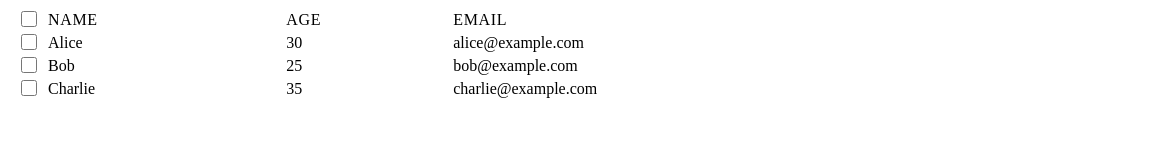
Test case: TableComponent › Selection › should select all rows via header checkbox
Click the 1st checkbox with class "lc-table__checkbox".
click(28, 19)  # box [20,11,36,27]
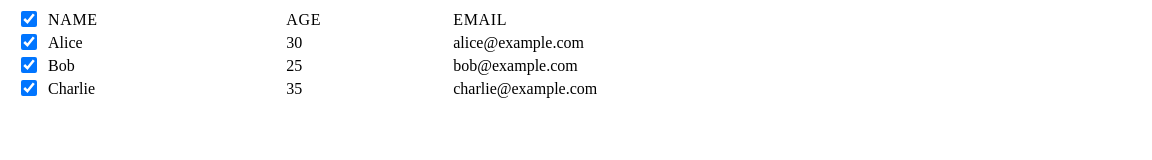
Expected: the number of rows with class "lc-table__row--selected" is 3, [8,31,1144,54]; [8,54,1144,77]; [8,77,1144,100]
